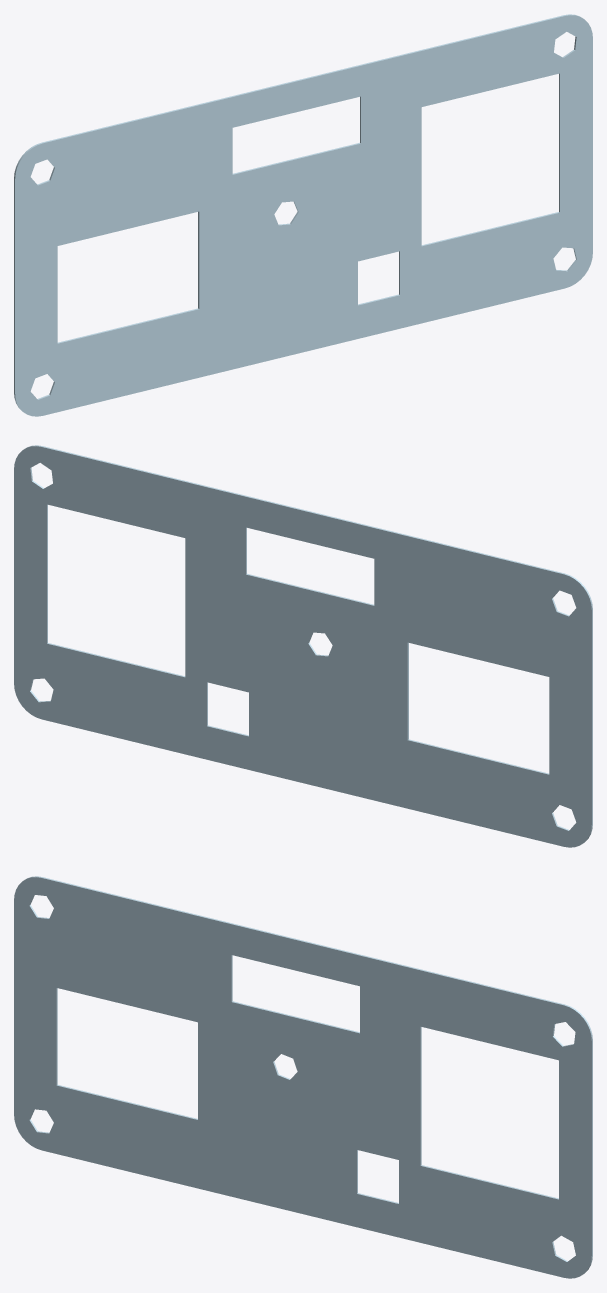
The model's file is Mixbox Top Arc Sheet.gltf.
3 views of the same model, one above another, from view 1: azimuth 30°, elevation 25°; view 2: azimuth 150°, elevation 25°; view 3: azimuth 330°, elevation 25° (orthographic).
Parts seen in each view (by area): view 1: Part 1; view 2: Part 1; view 3: Part 1.
Boxes of the visible parts, x1,y1,x2,y2 form: Part 1: (14, 14, 592, 416); Part 1: (14, 445, 592, 847); Part 1: (14, 876, 592, 1278).
Size of the model in its own units: 0.2969 by 0.1338 by 0.001.
